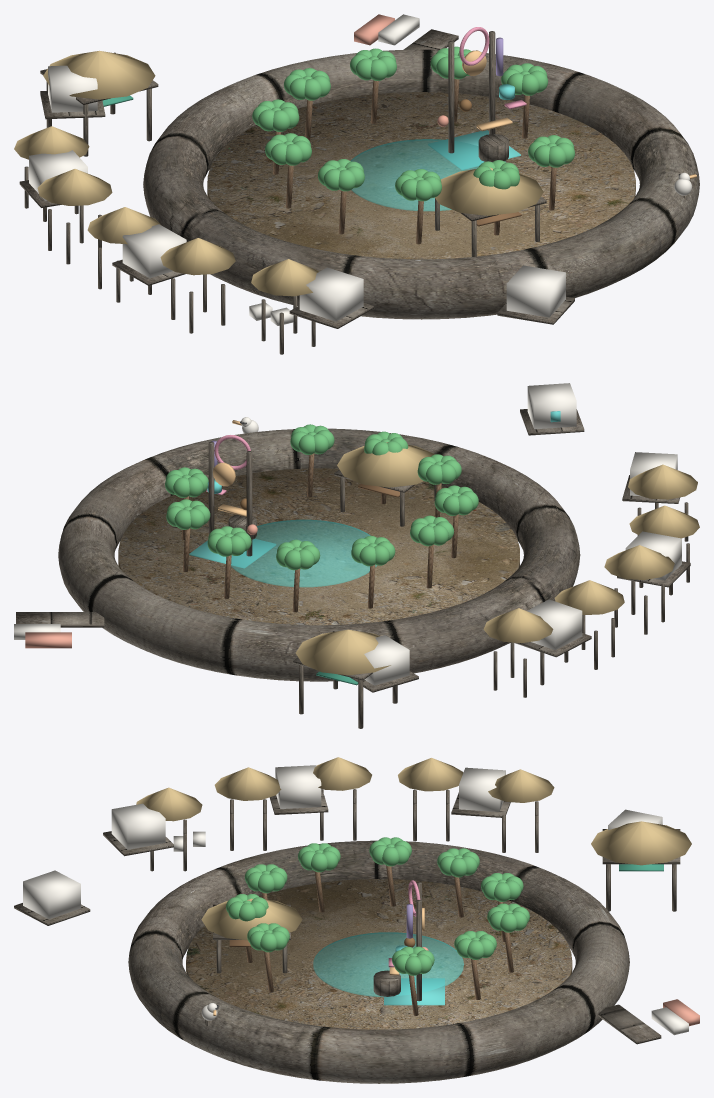
Rendered from paloma_island.glb.
3 renders of one model, top to bottom at view 1: azimuth 30°, elevation 25°; view 2: azimuth 150°, elevation 25°; view 3: azimuth 270°, elevation 25°, orthographic. The views are drawn at different scales.
Visible parts, largest first — view 1: Boardwalk, Sand, Lagoon, PavRoof.001, PavRoof, House.004, House.003, House.002, Roof.001, Roof.003, Roof.004, House (+14 smaller); view 2: Boardwalk, Sand, Lagoon, PavRoof, PavRoof.001, House.004, Roof.004, Roof.002, House.001, Roof, Roof.001, House (+9 smaller); view 3: Boardwalk, Sand, Lagoon, PavRoof, House.004, PavRoof.001, House.003, House.002, House.001, Roof.003, Roof.001, Roof (+10 smaller).
Part boxes in pixels (x1,y1,x2,y2): Boardwalk: (143, 49, 699, 319); Sand: (207, 92, 635, 259); Lagoon: (350, 139, 506, 211); PavRoof.001: (435, 167, 543, 215); PavRoof: (43, 50, 155, 99); House.004: (506, 265, 565, 317); House.003: (299, 267, 363, 321); House.002: (122, 224, 186, 278); Roof.001: (37, 169, 112, 205); Roof.003: (160, 238, 235, 275); Roof.004: (251, 259, 318, 296); House: (48, 65, 97, 112); Boardwalk: (58, 428, 580, 681); Sand: (118, 468, 519, 625); Lagoon: (231, 519, 376, 587); PavRoof: (295, 629, 390, 675); PavRoof.001: (337, 442, 435, 487); House.004: (527, 383, 576, 429); Roof.004: (628, 464, 697, 499); Roof.002: (604, 545, 674, 579); House.001: (527, 599, 582, 650); Roof: (483, 608, 553, 643); Roof.001: (554, 580, 624, 615); House: (364, 635, 409, 685); Boardwalk: (128, 840, 629, 1083); Sand: (186, 879, 572, 1029); Lagoon: (313, 932, 463, 997); PavRoof: (591, 821, 691, 865); House.004: (23, 870, 80, 919); PavRoof.001: (201, 898, 302, 940); House.003: (111, 803, 165, 849); House.002: (275, 765, 321, 808); House.001: (459, 767, 505, 811); Roof.003: (214, 767, 281, 800); Roof.001: (398, 758, 463, 791); Roof: (488, 769, 554, 802).
Size of what is drawn, in the model's own units: 26.18 by 6.41 by 29.13.
36 materials, 12 textured.
